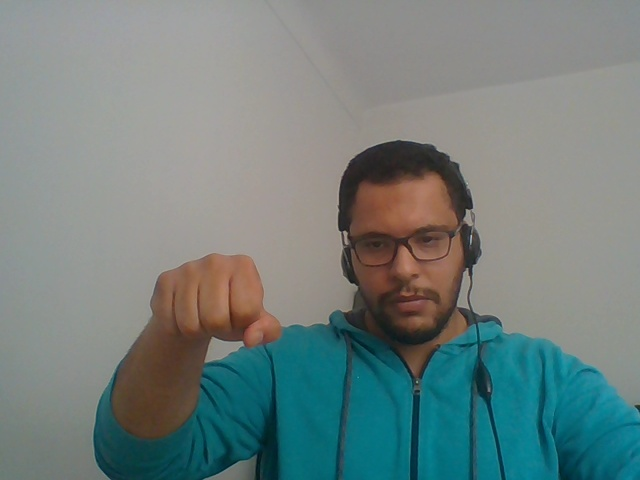yes: (131, 240, 292, 403)
